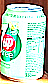sevenup: (1, 3, 46, 81)
